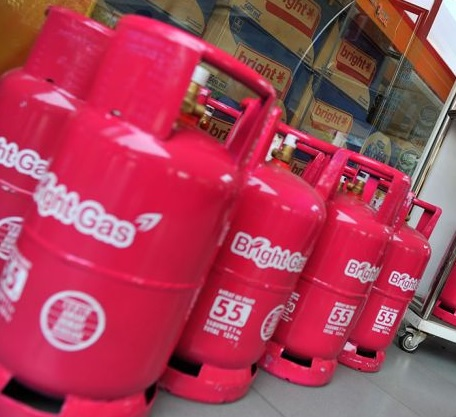bright_gas: (6, 16, 269, 417), (158, 99, 349, 404), (270, 144, 412, 386), (1, 11, 118, 271), (358, 179, 441, 372)
